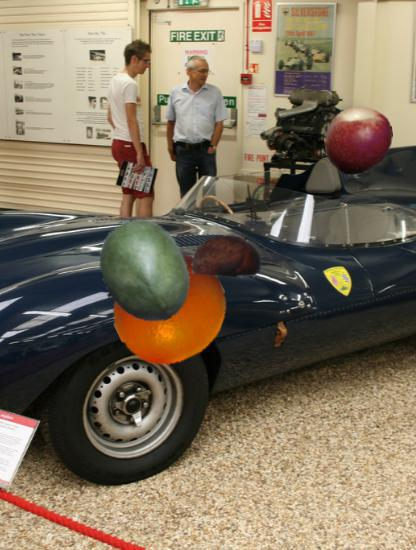Chestnut: (192, 220, 264, 292)
Grapefruit: (112, 251, 228, 367)
Mango: (90, 218, 197, 325)
Nectarine: (324, 106, 394, 176)
